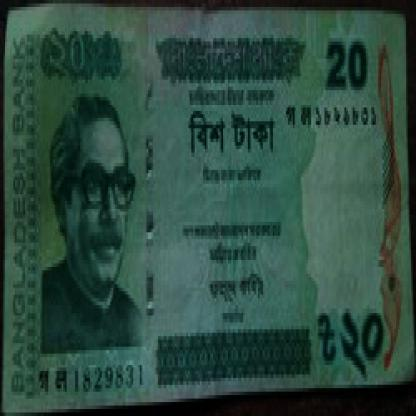Twenty: (172, 104, 291, 163), (316, 295, 388, 374), (38, 31, 133, 90), (321, 35, 373, 94)
